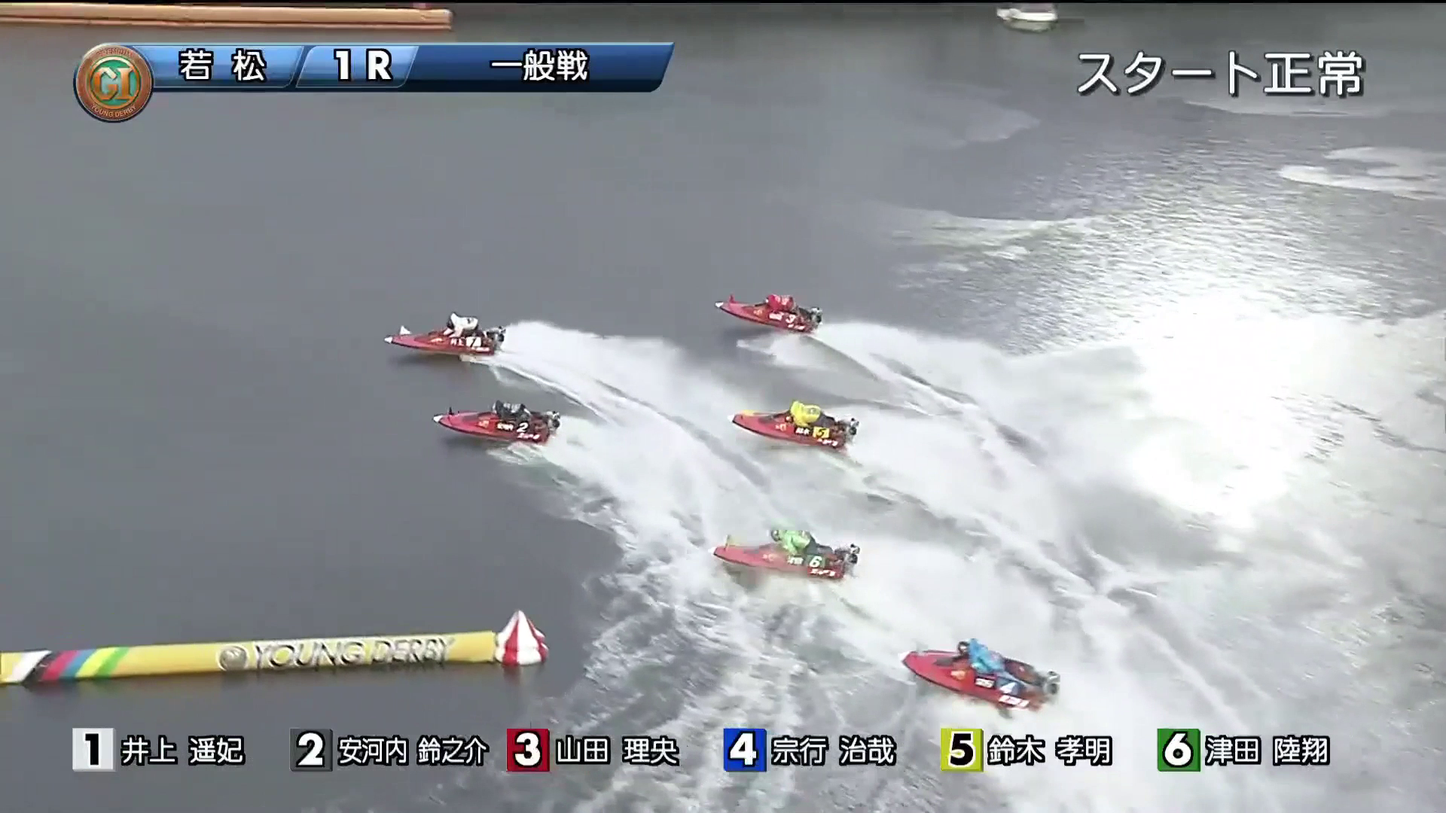１号艇: (413, 280, 484, 334)
２号艇: (425, 370, 554, 431)
３号艇: (743, 264, 840, 318)
４号艇: (732, 504, 866, 570)
５号艇: (921, 648, 1045, 703)
６号艇: (741, 357, 841, 437)
